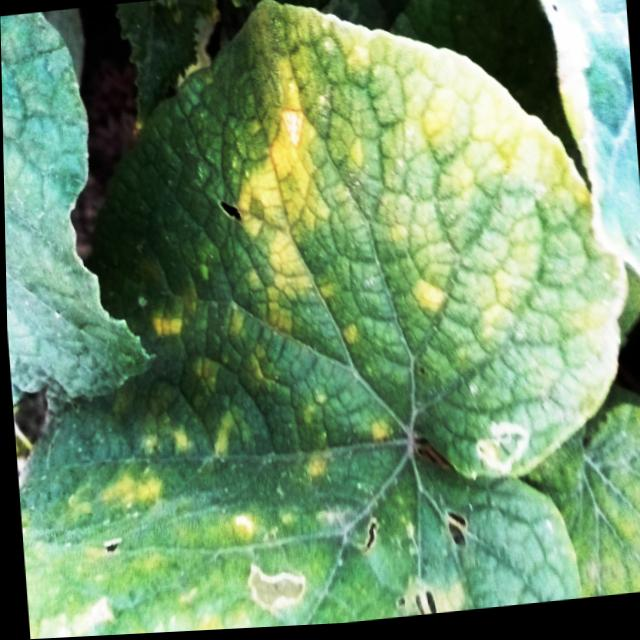Downy-Mildew: (17, 0, 618, 639)
